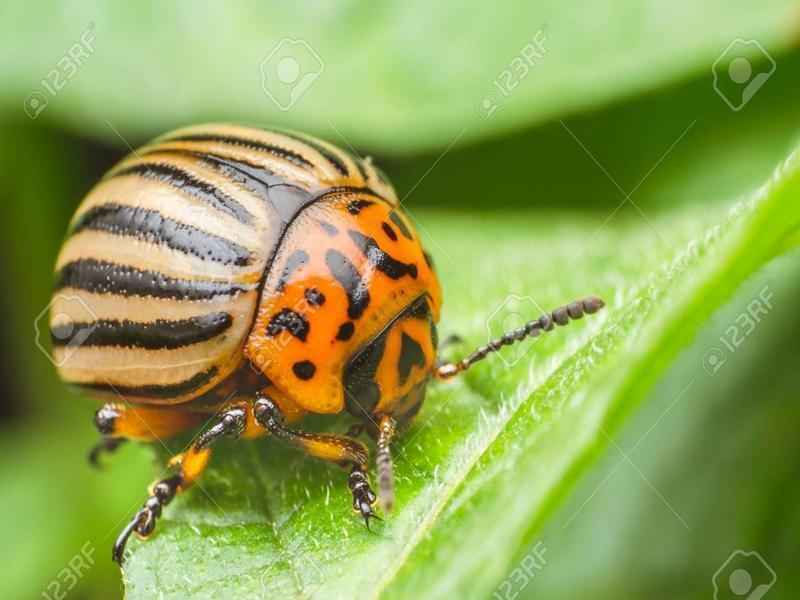hrosc: (40, 114, 465, 496)
